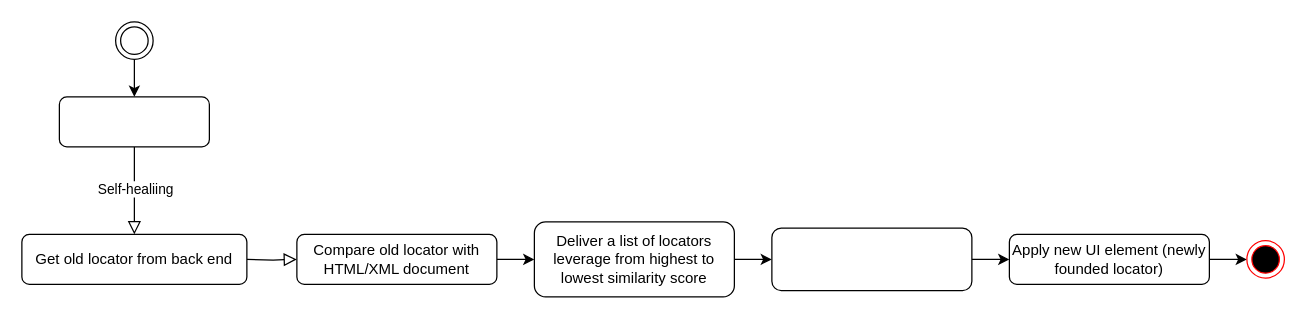
The diagram is 1306 pixels wide and 319 high, and some of its shapes have lost their labels. Each missing label, with the box of its shape:
Auto-heal the broken UI element with highest score founded locator: (771, 227, 972, 291)
Broken UI element: (58, 96, 209, 147)
